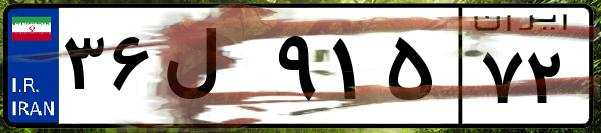1: (330, 28, 385, 110)
2: (525, 38, 570, 115)
3: (57, 26, 110, 100)
5: (385, 28, 445, 110)
6: (110, 28, 158, 98)
7: (475, 38, 525, 113)
9: (270, 28, 330, 110)
ل: (158, 20, 270, 120)
